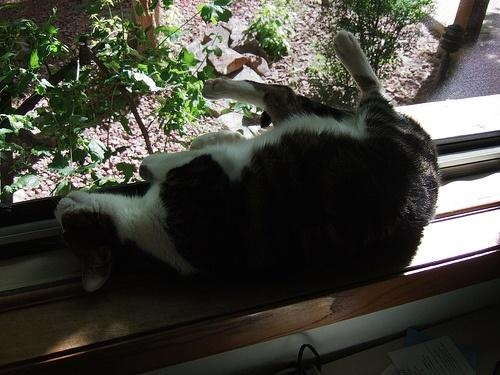cat: (56, 29, 442, 295)
